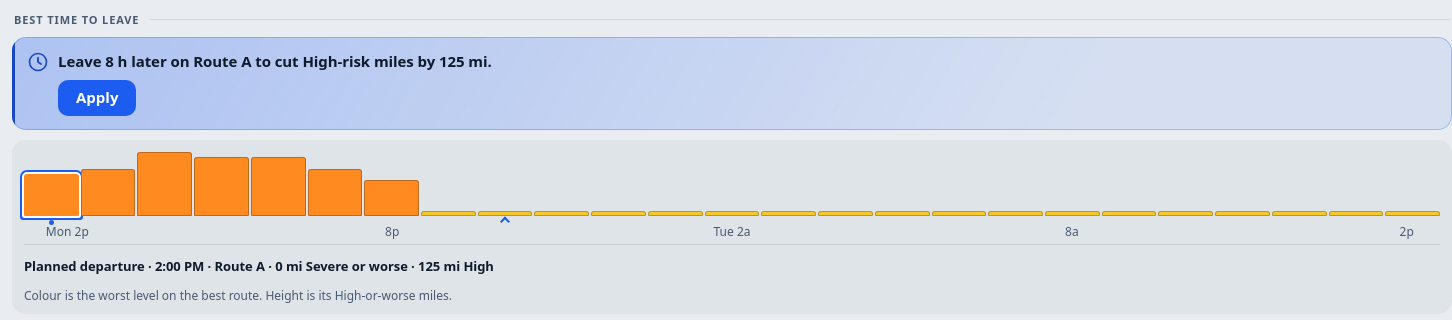
Test: DepartureStrip › keeps the planned departure when the finger moves vertically
This screenshot has width=1452, height=320.
Later steps or results of the test are not shown.
Press the mouse on the element named "Departure time, next 24 hours" at (732, 184), box [24,152,1440,216]
Click the 5th radio button with test id "departure-bar". click: (278, 184)
box: [251,152,306,216]
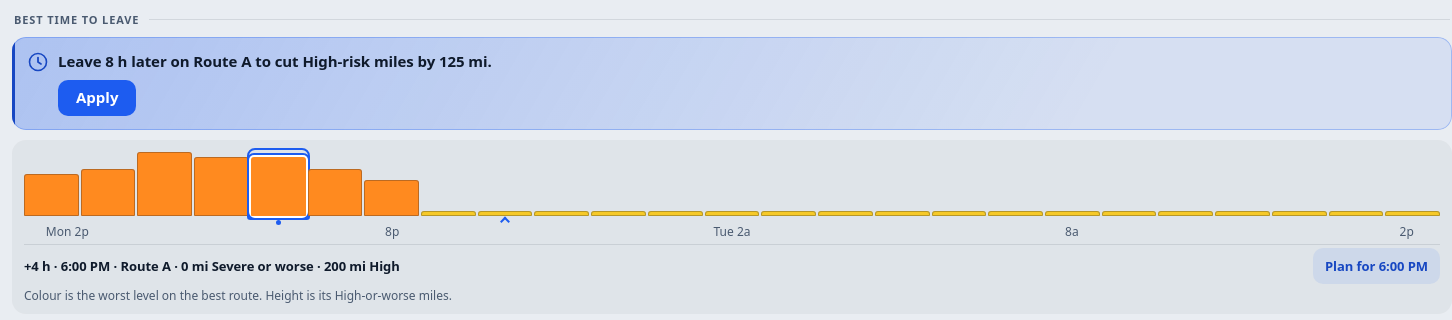
Expected: the radio button with test id "departure-bar" is checked, [251,152,306,216]
